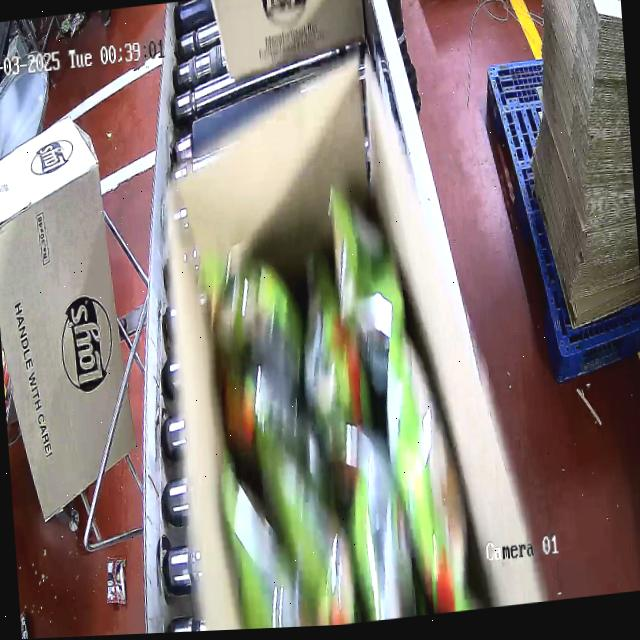YOGURT_HERB: (188, 205, 482, 632)
